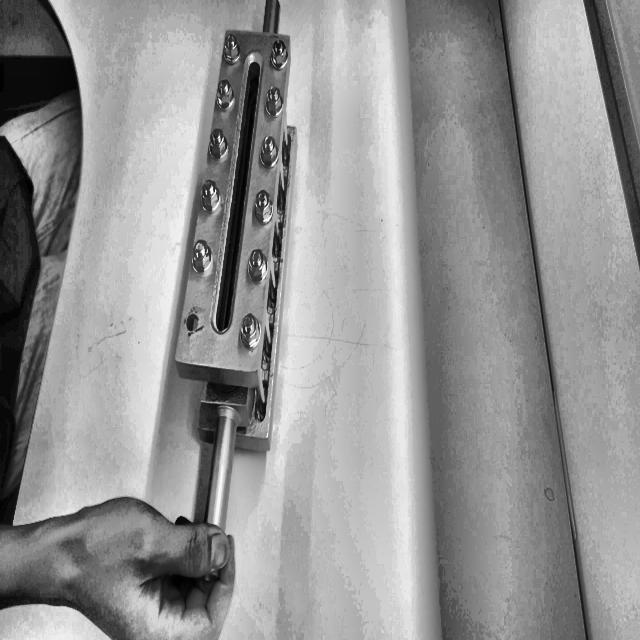ShuiWeiQi_11: (128, 15, 348, 489)
